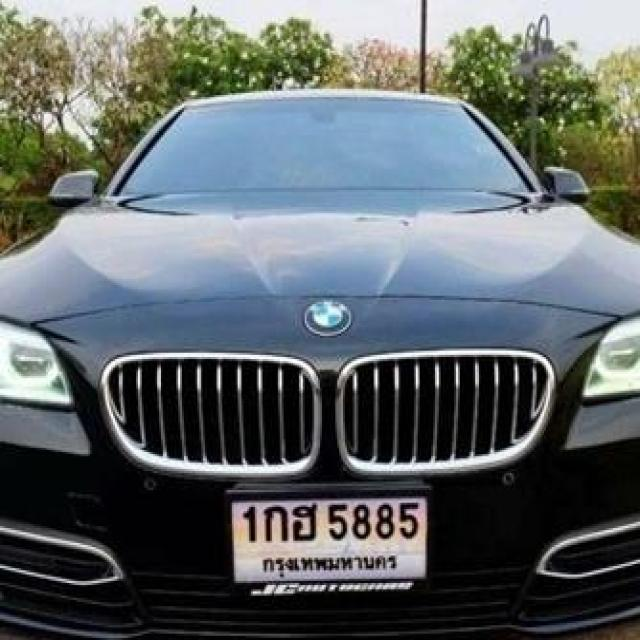plate: (228, 499, 428, 576)
